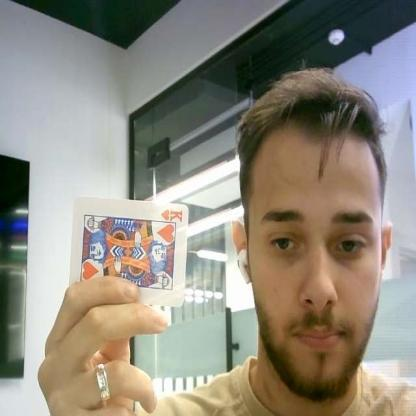KH: (160, 207, 184, 221)
